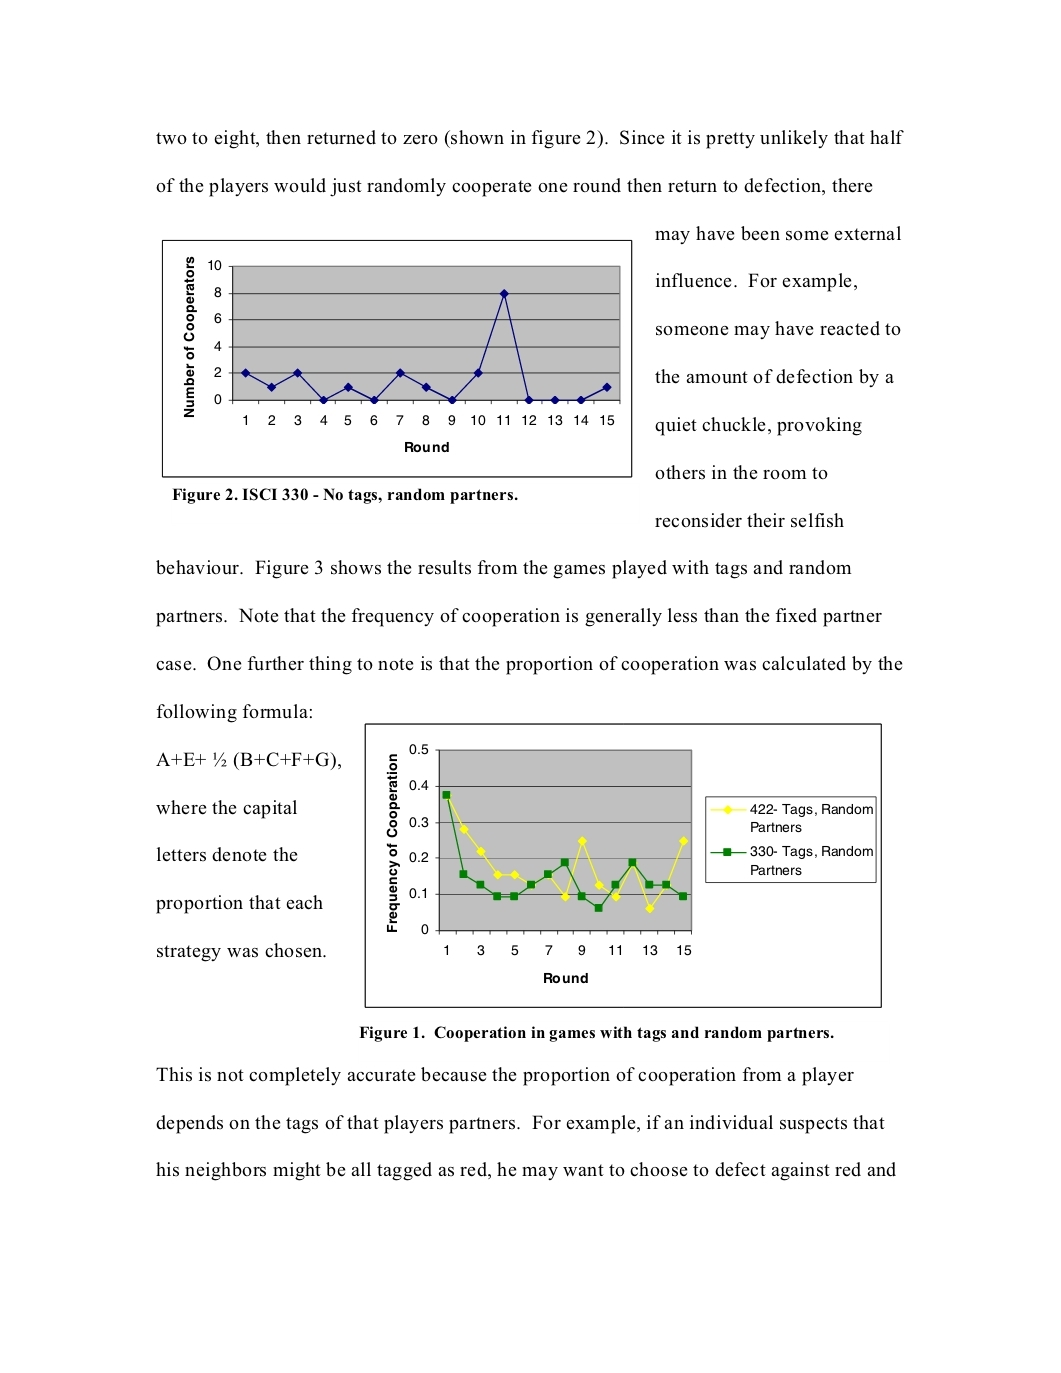figure: (364, 723, 880, 1007), (160, 238, 632, 477)
formula: (156, 752, 340, 769)
